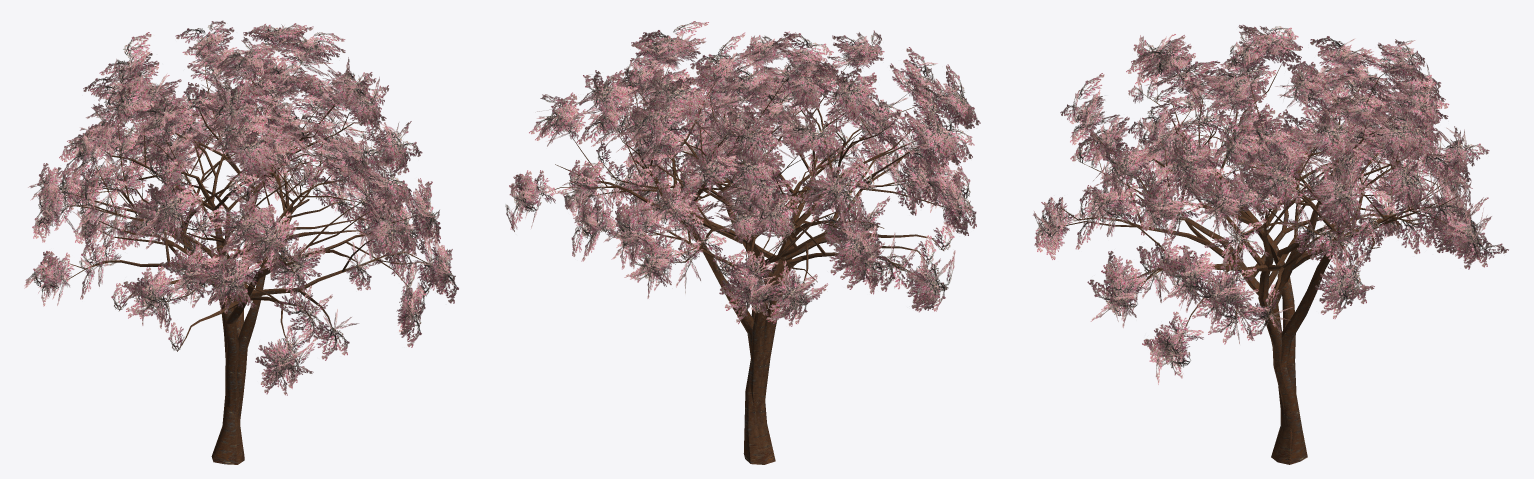
File: Cherry1_LOD.gltf
The picture shows the model from 3 angles, left to right: view 1: azimuth 30°, elevation 25°; view 2: azimuth 150°, elevation 25°; view 3: azimuth 270°, elevation 25°; orthographic projection. The views are drawn at different scales.
Visible parts, largest first — view 1: cherry_1_lod_Tree_1Mat_0, cherry_1_lod_Tree_0Mat_0; view 2: cherry_1_lod_Tree_1Mat_0, cherry_1_lod_Tree_0Mat_0; view 3: cherry_1_lod_Tree_1Mat_0, cherry_1_lod_Tree_0Mat_0.
Part boxes in pixels (x1,y1,x2,y2): cherry_1_lod_Tree_1Mat_0: [24, 20, 458, 395]; cherry_1_lod_Tree_0Mat_0: [46, 48, 427, 464]; cherry_1_lod_Tree_1Mat_0: [505, 21, 980, 326]; cherry_1_lod_Tree_0Mat_0: [519, 55, 958, 464]; cherry_1_lod_Tree_1Mat_0: [1033, 25, 1508, 384]; cherry_1_lod_Tree_0Mat_0: [1058, 54, 1475, 464].
Size of the model in its own units: 177 by 181 by 196.
Materials: 2 (2 with a texture image).
